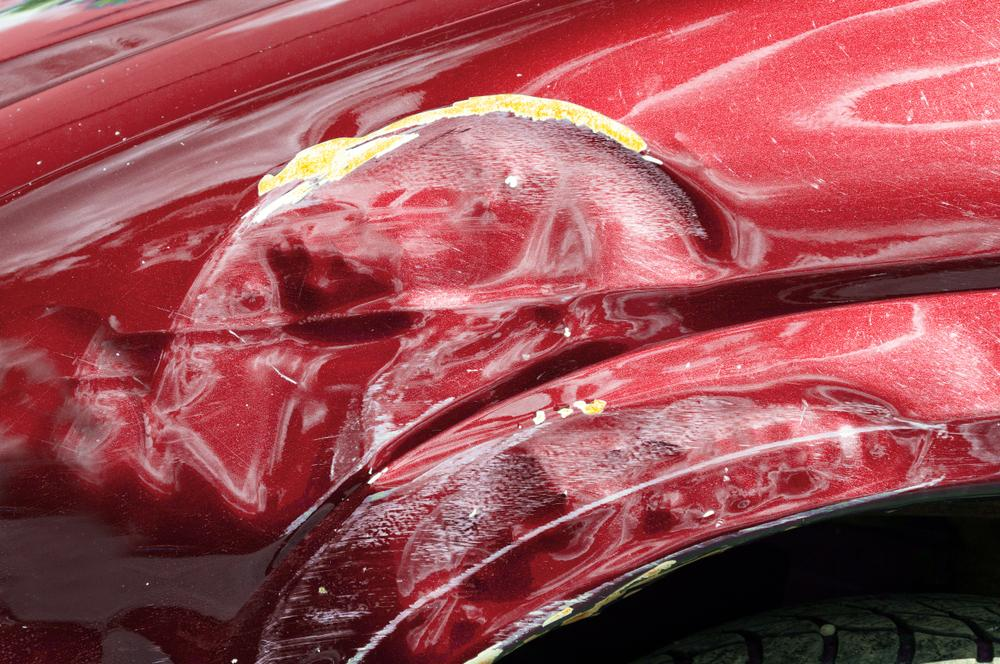dent: (0, 97, 1000, 664)
